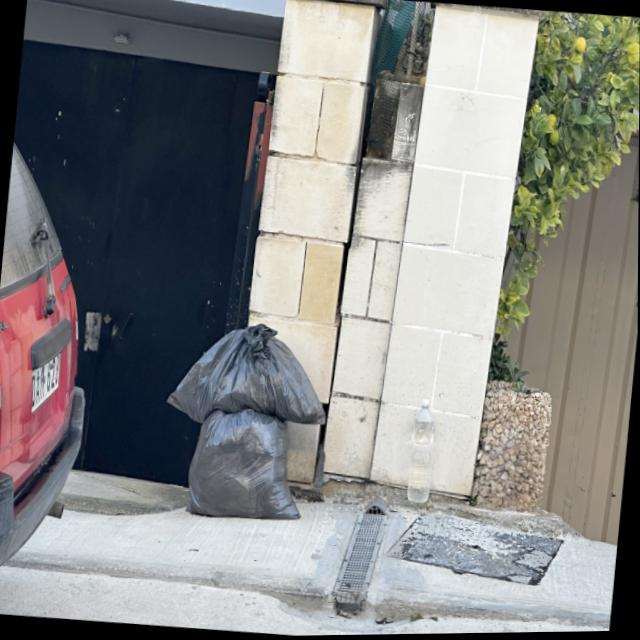Mixed Waste -Black Bags-: (168, 323, 326, 521)
